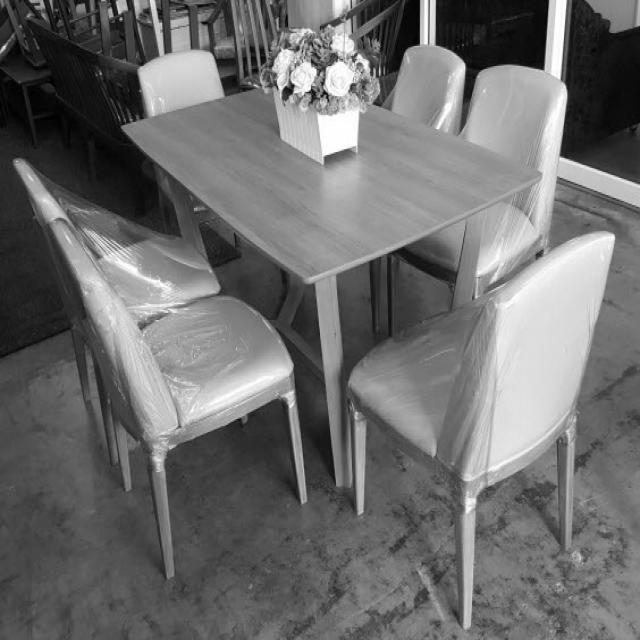table: (113, 51, 548, 284)
